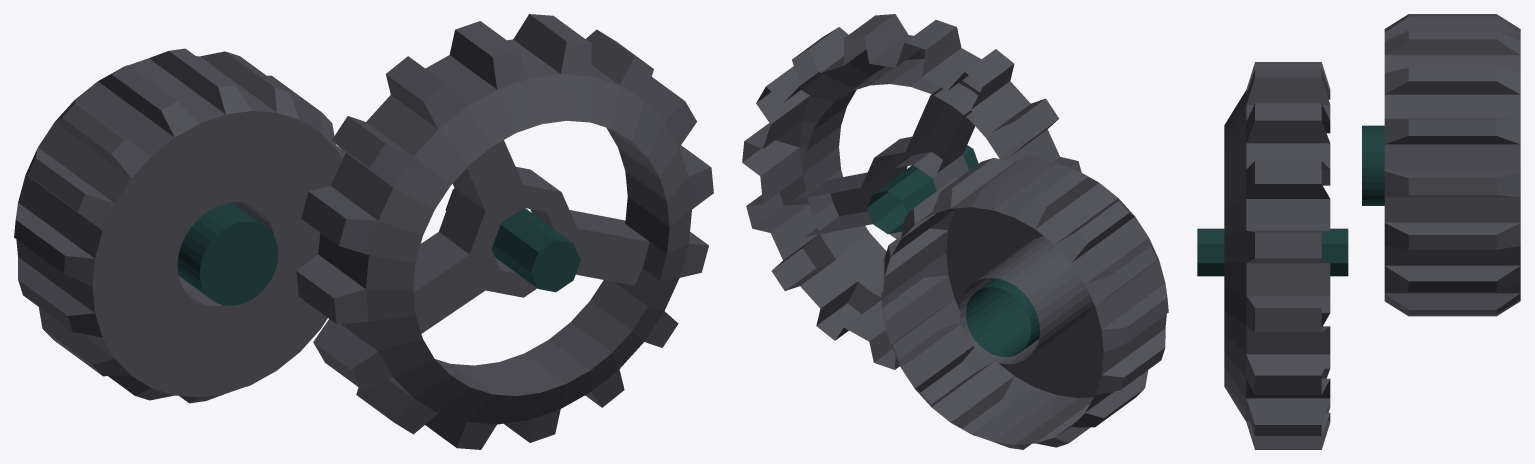
The model's file is Gears.fbx.
3 views of the same model, side by side, from view 1: azimuth 30°, elevation 25°; view 2: azimuth 150°, elevation 25°; view 3: azimuth 270°, elevation 25° (orthographic). The views are drawn at different scales.
Parts seen in each view (by area): view 1: Cogs; view 2: Cogs; view 3: Cogs.
Boxes of the visible parts, x1,y1,x2,y2 form: Cogs: (14,14,713,449); Cogs: (742,14,1168,449); Cogs: (1197,14,1520,449).
Bounding box in the file's own units: 204 × 137 × 115.
